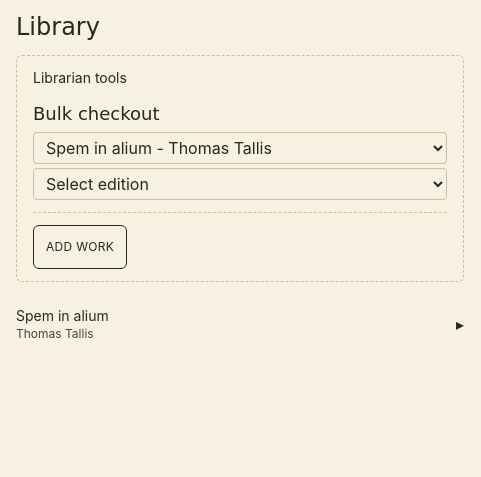
Test: #198 — the create write can fail in transport › a rejected createWork surfaces the error, keeps the form open with what was typed, and inserts NOTHING locally
Click the button with test id "create-work-button" at (80, 247), box [33,225,127,269]
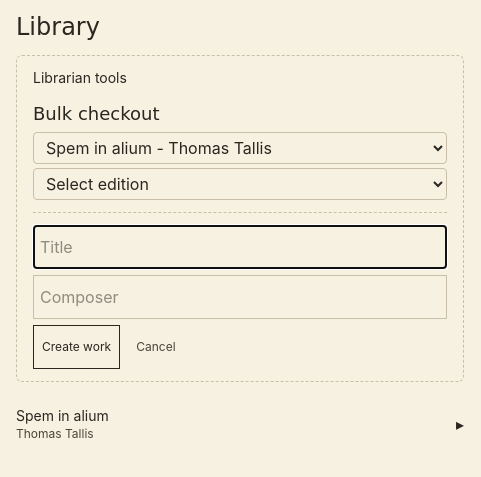
Result: the element with test id "create-work-form" is shown at [33,225,447,369]
Type "Ave Maria" into the field with test id "create-work-name" at (240, 247), box [33,225,447,269]
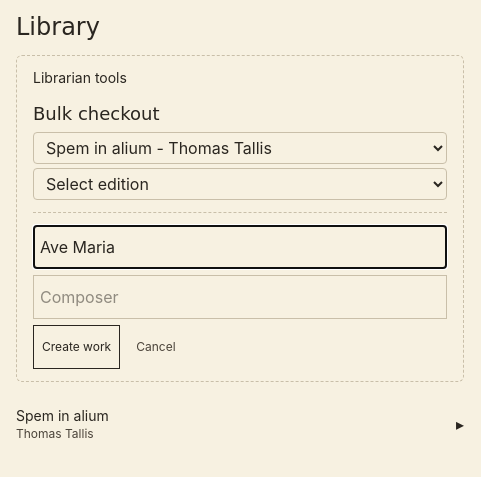
Type "Arvo Pärt" into the field with test id "create-work-composer" at (240, 297), box [33,275,447,319]
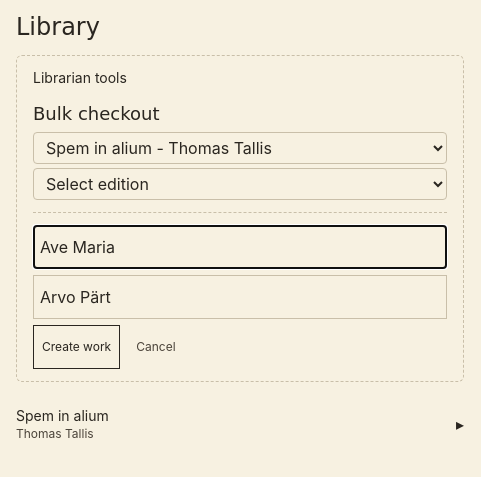
Click the button with test id "create-work-submit" at (77, 347), box [33,325,120,369]
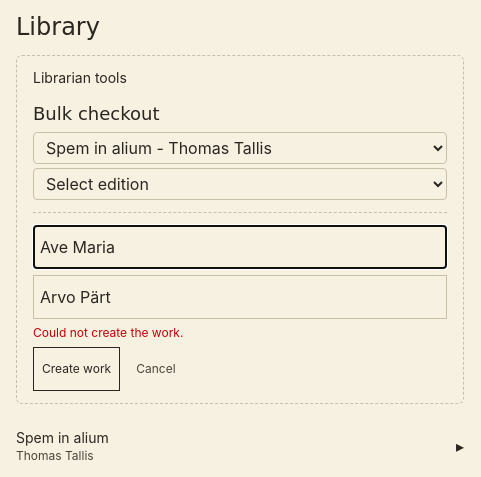
Result: the element with test id "create-work-form" is shown at [33,225,447,391]
Result: the message with test id "create-work-error" reads "Could not create the work." at [33,325,183,340]
